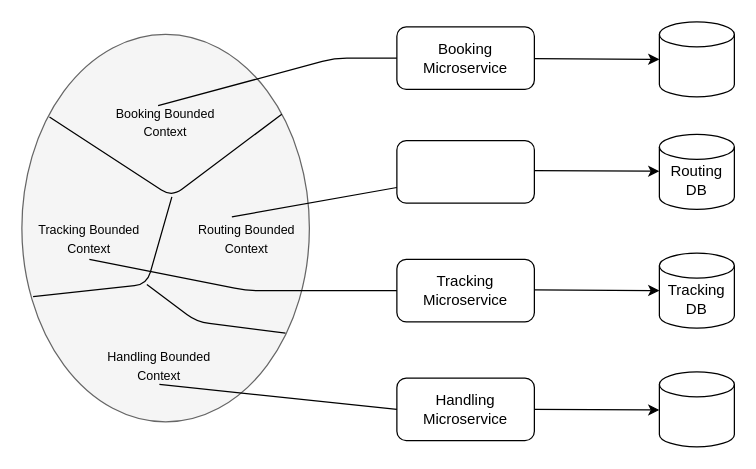
Image size: 756x469. Some labels were removed from this diagram. The box of each missing label's shape, as (x1, y1, x2, y2) in pixels:
Booking DB: (658, 21, 734, 97)
Handling DB: (658, 371, 734, 447)
Routing Microservice: (396, 139, 534, 203)
